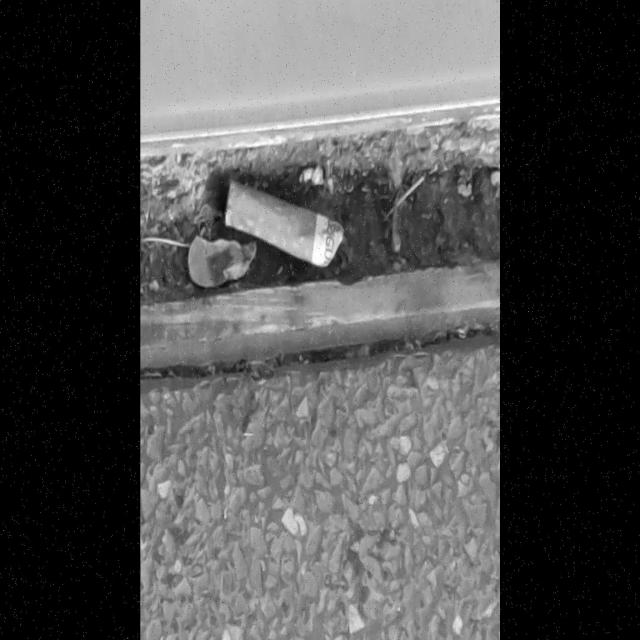other waste: (223, 176, 345, 268)
